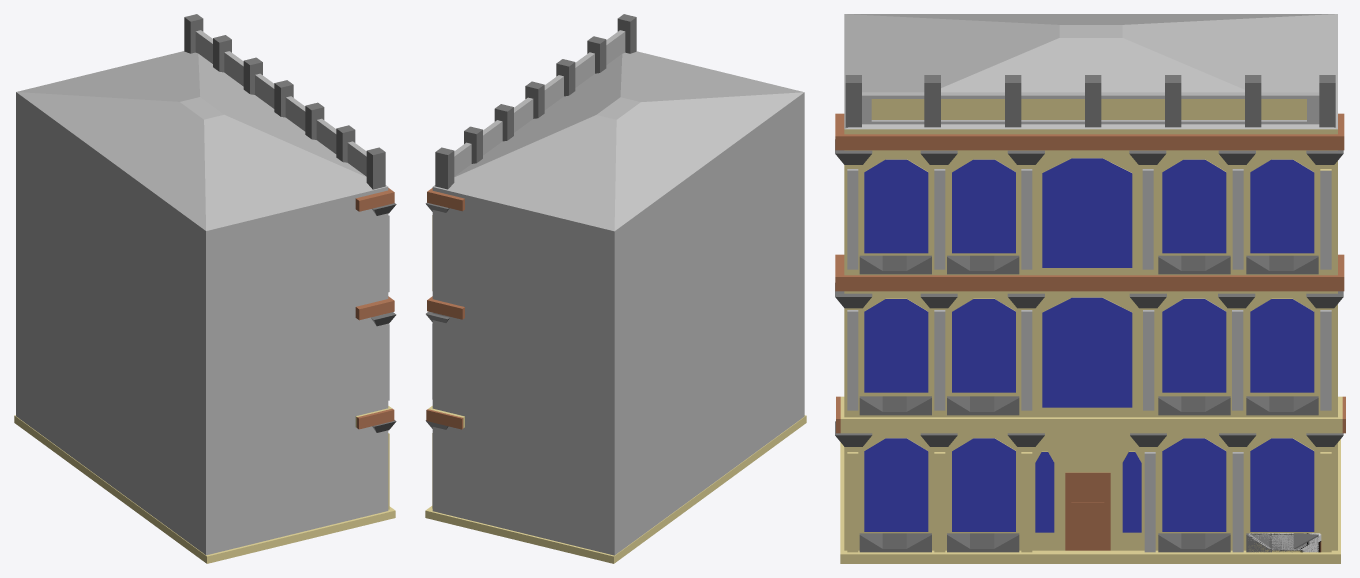
File: Дом 4.fbx
The picture shows the model from 3 angles, left to right: view 1: azimuth 30°, elevation 25°; view 2: azimuth 150°, elevation 25°; view 3: azimuth 270°, elevation 25°; orthographic projection. The views are drawn at different scales.
Visible parts, largest first — view 1: Cube; view 2: Cube; view 3: Cube.
Part boxes in pixels (bbox=[...]): Cube: bbox=[14, 14, 396, 563]; Cube: bbox=[425, 14, 806, 563]; Cube: bbox=[835, 14, 1345, 563].
Bounding box in the file's own units: 1064 × 1976 × 1923.
